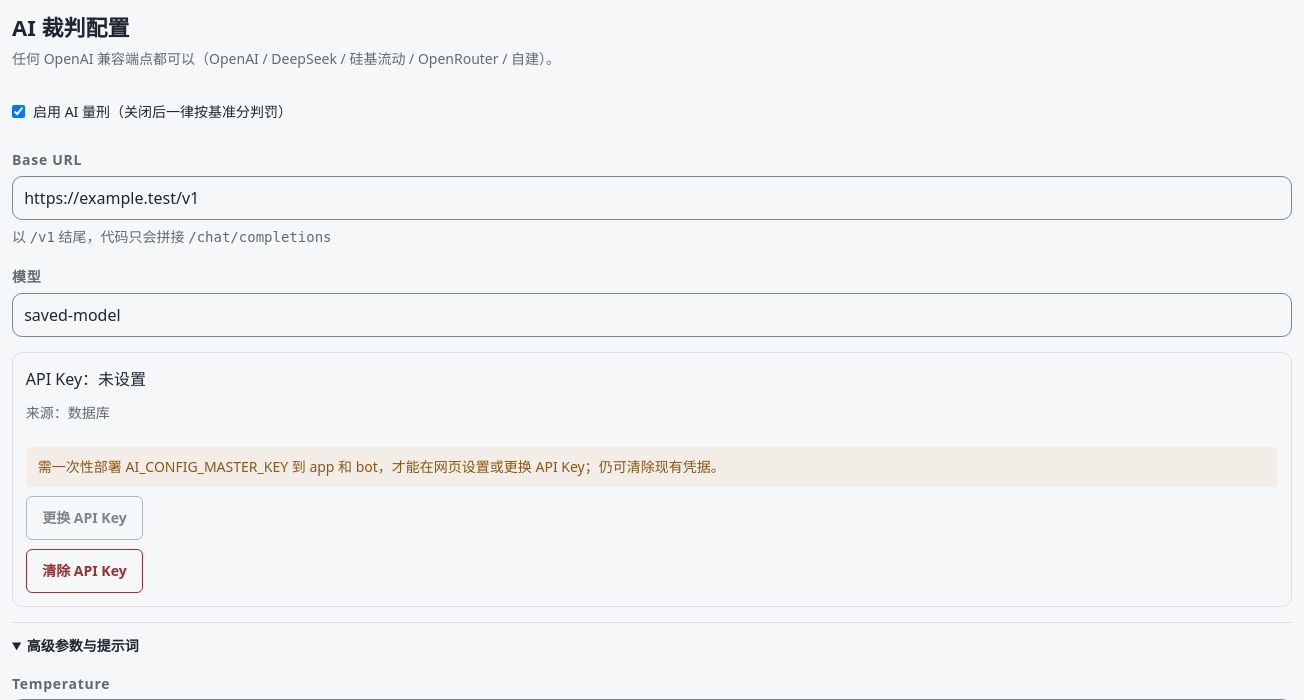
administrator-managed AI credentials › disables replacement without deployment master key but still clears unreadable database credentials
The image size is (1304, 700).
Check: the field labelled "模型" is shown, box [12,293,1292,337]
Check: the button "更换 API Key" is disabled, box [26,496,143,540]
Step 1. Click the button "清除 API Key" → (84, 571), box [26,549,143,593]
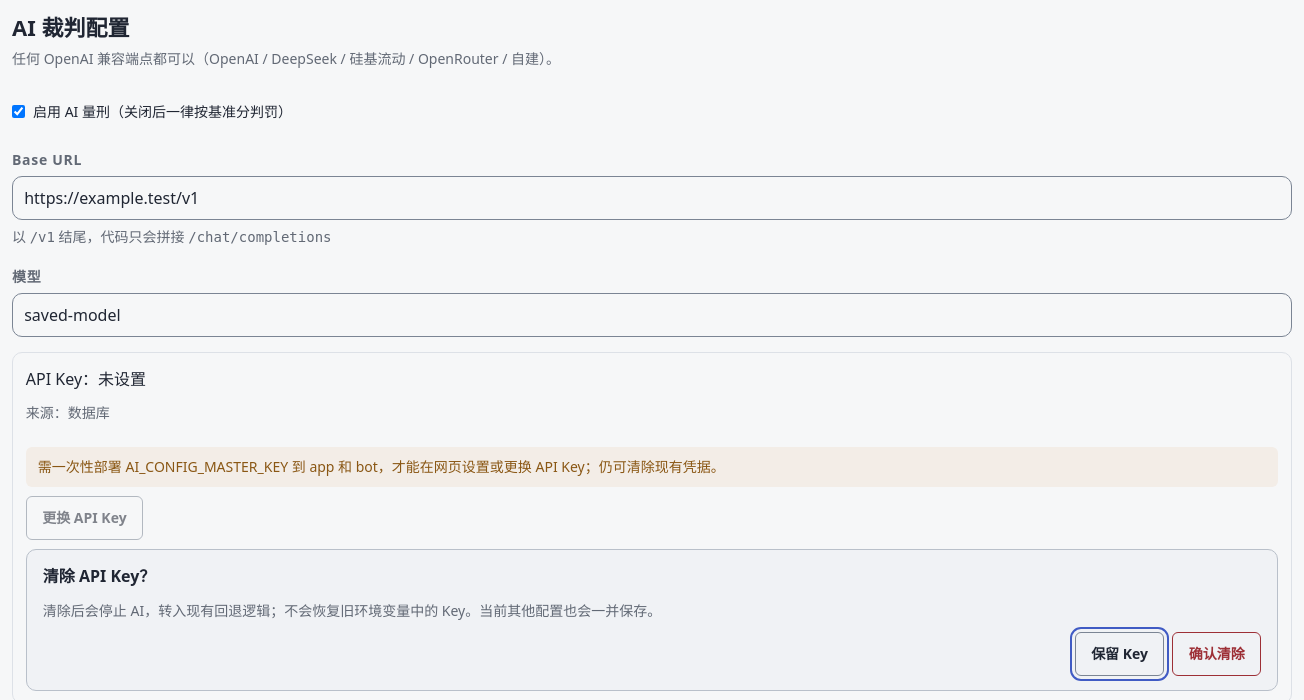
Step 2. Click the button "确认清除" → (1217, 654), box [1172,632,1261,676]
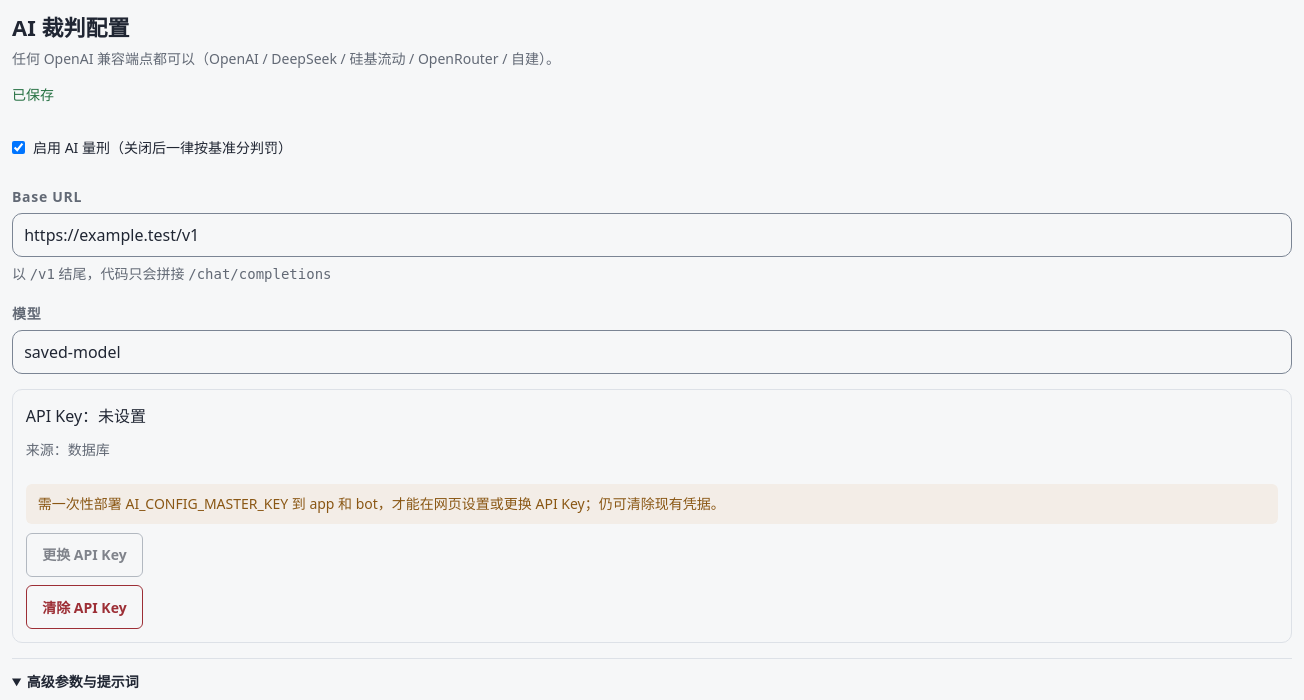
Check: the text "已保存" is shown, box [12,86,54,104]
